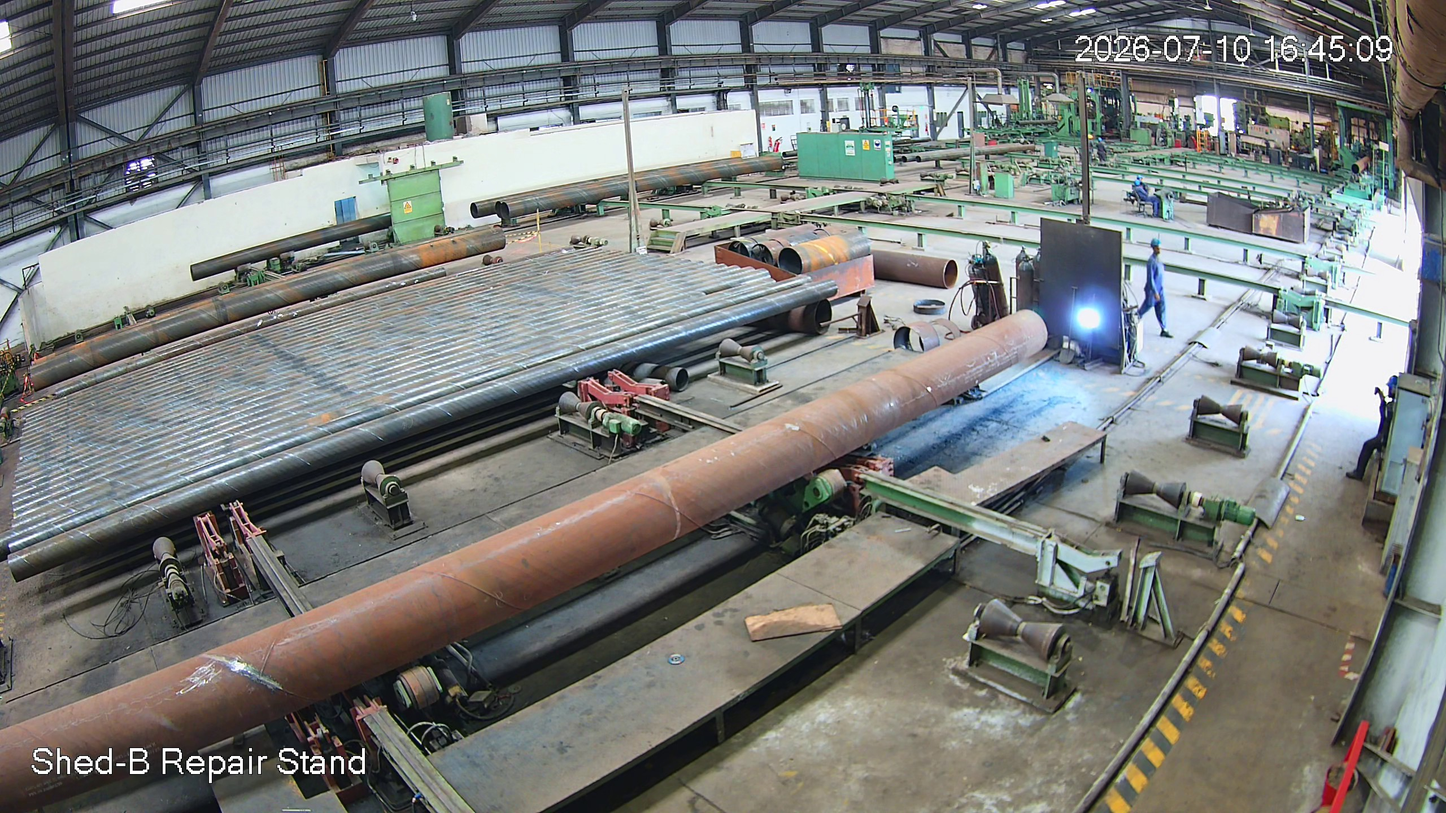Helmet: (1148, 236, 1168, 264)
Person: (1144, 238, 1177, 341)
